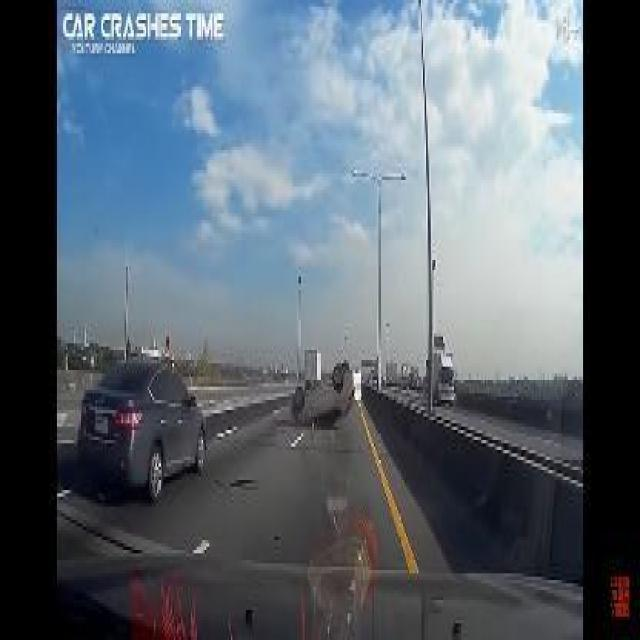accident: (285, 360, 363, 423)
